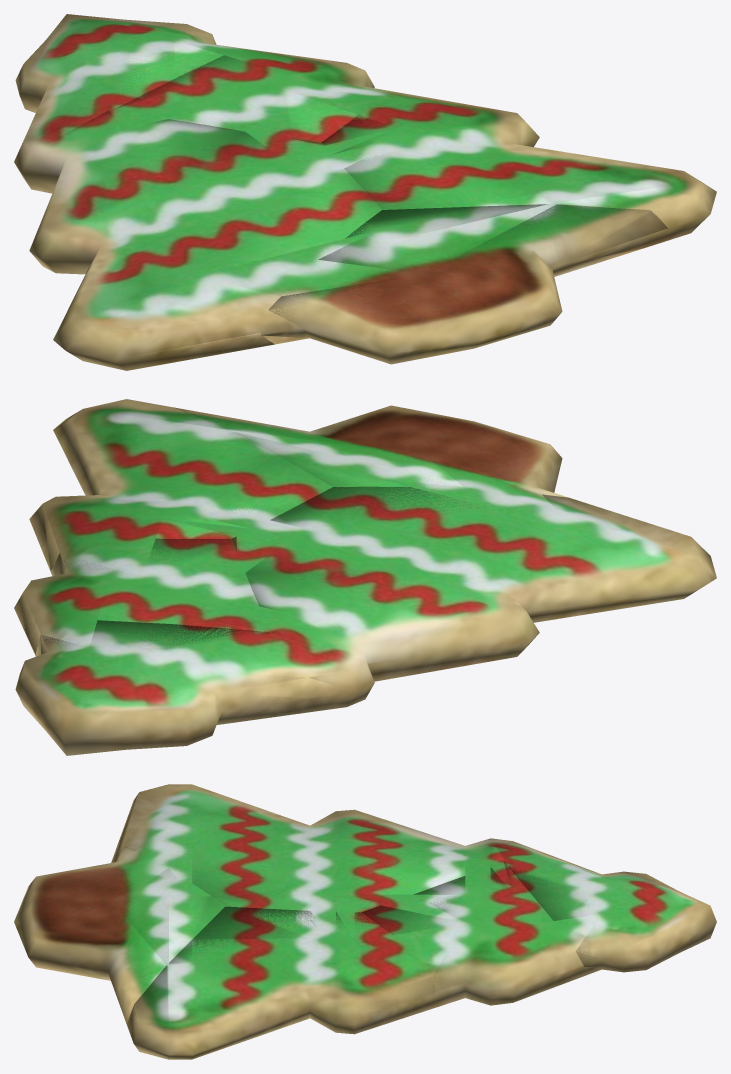
Rendered from cookie_tree.fbx.
3 views of the same model, one above another, from view 1: azimuth 30°, elevation 25°; view 2: azimuth 150°, elevation 25°; view 3: azimuth 270°, elevation 25° (orthographic). The views are drawn at different scales.
Visible parts, largest first — view 1: Cookie_tree, Cookie_tree_cell, Cookie_tree_cell.001, Cookie_tree_cell.002, Cookie_tree_cell.003, Cookie_tree_cell.004; view 2: Cookie_tree, Cookie_tree_cell, Cookie_tree_cell.004, Cookie_tree_cell.002, Cookie_tree_cell.001, Cookie_tree_cell.003; view 3: Cookie_tree, Cookie_tree_cell, Cookie_tree_cell.002, Cookie_tree_cell.001, Cookie_tree_cell.003, Cookie_tree_cell.004.
Part boxes in pixels (bbox=[...]): Cookie_tree: bbox=[14, 14, 715, 370]; Cookie_tree_cell: bbox=[20, 110, 380, 370]; Cookie_tree_cell.001: bbox=[262, 204, 667, 364]; Cookie_tree_cell.002: bbox=[321, 114, 716, 228]; Cookie_tree_cell.003: bbox=[113, 55, 405, 142]; Cookie_tree_cell.004: bbox=[16, 14, 223, 112]; Cookie_tree: bbox=[14, 400, 716, 754]; Cookie_tree_cell: bbox=[232, 486, 716, 713]; Cookie_tree_cell.004: bbox=[19, 620, 307, 755]; Cookie_tree_cell.002: bbox=[42, 399, 332, 570]; Cookie_tree_cell.001: bbox=[174, 405, 568, 497]; Cookie_tree_cell.003: bbox=[21, 538, 267, 653]; Cookie_tree: bbox=[30, 784, 716, 1059]; Cookie_tree_cell: bbox=[115, 784, 504, 912]; Cookie_tree_cell.002: bbox=[127, 906, 434, 1059]; Cookie_tree_cell.001: bbox=[14, 846, 224, 1023]; Cookie_tree_cell.003: bbox=[361, 863, 583, 1005]; Cookie_tree_cell.004: bbox=[504, 861, 716, 971].
Size of the model in its own units: 34.5 by 3.43 by 38.64.
